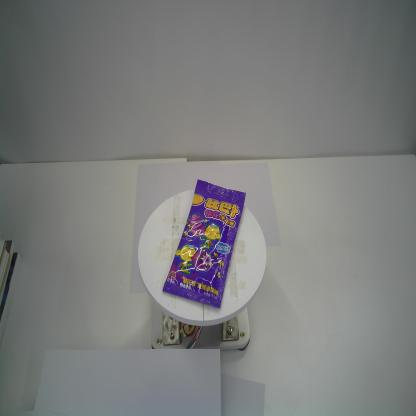Candy: (160, 180, 246, 309)
